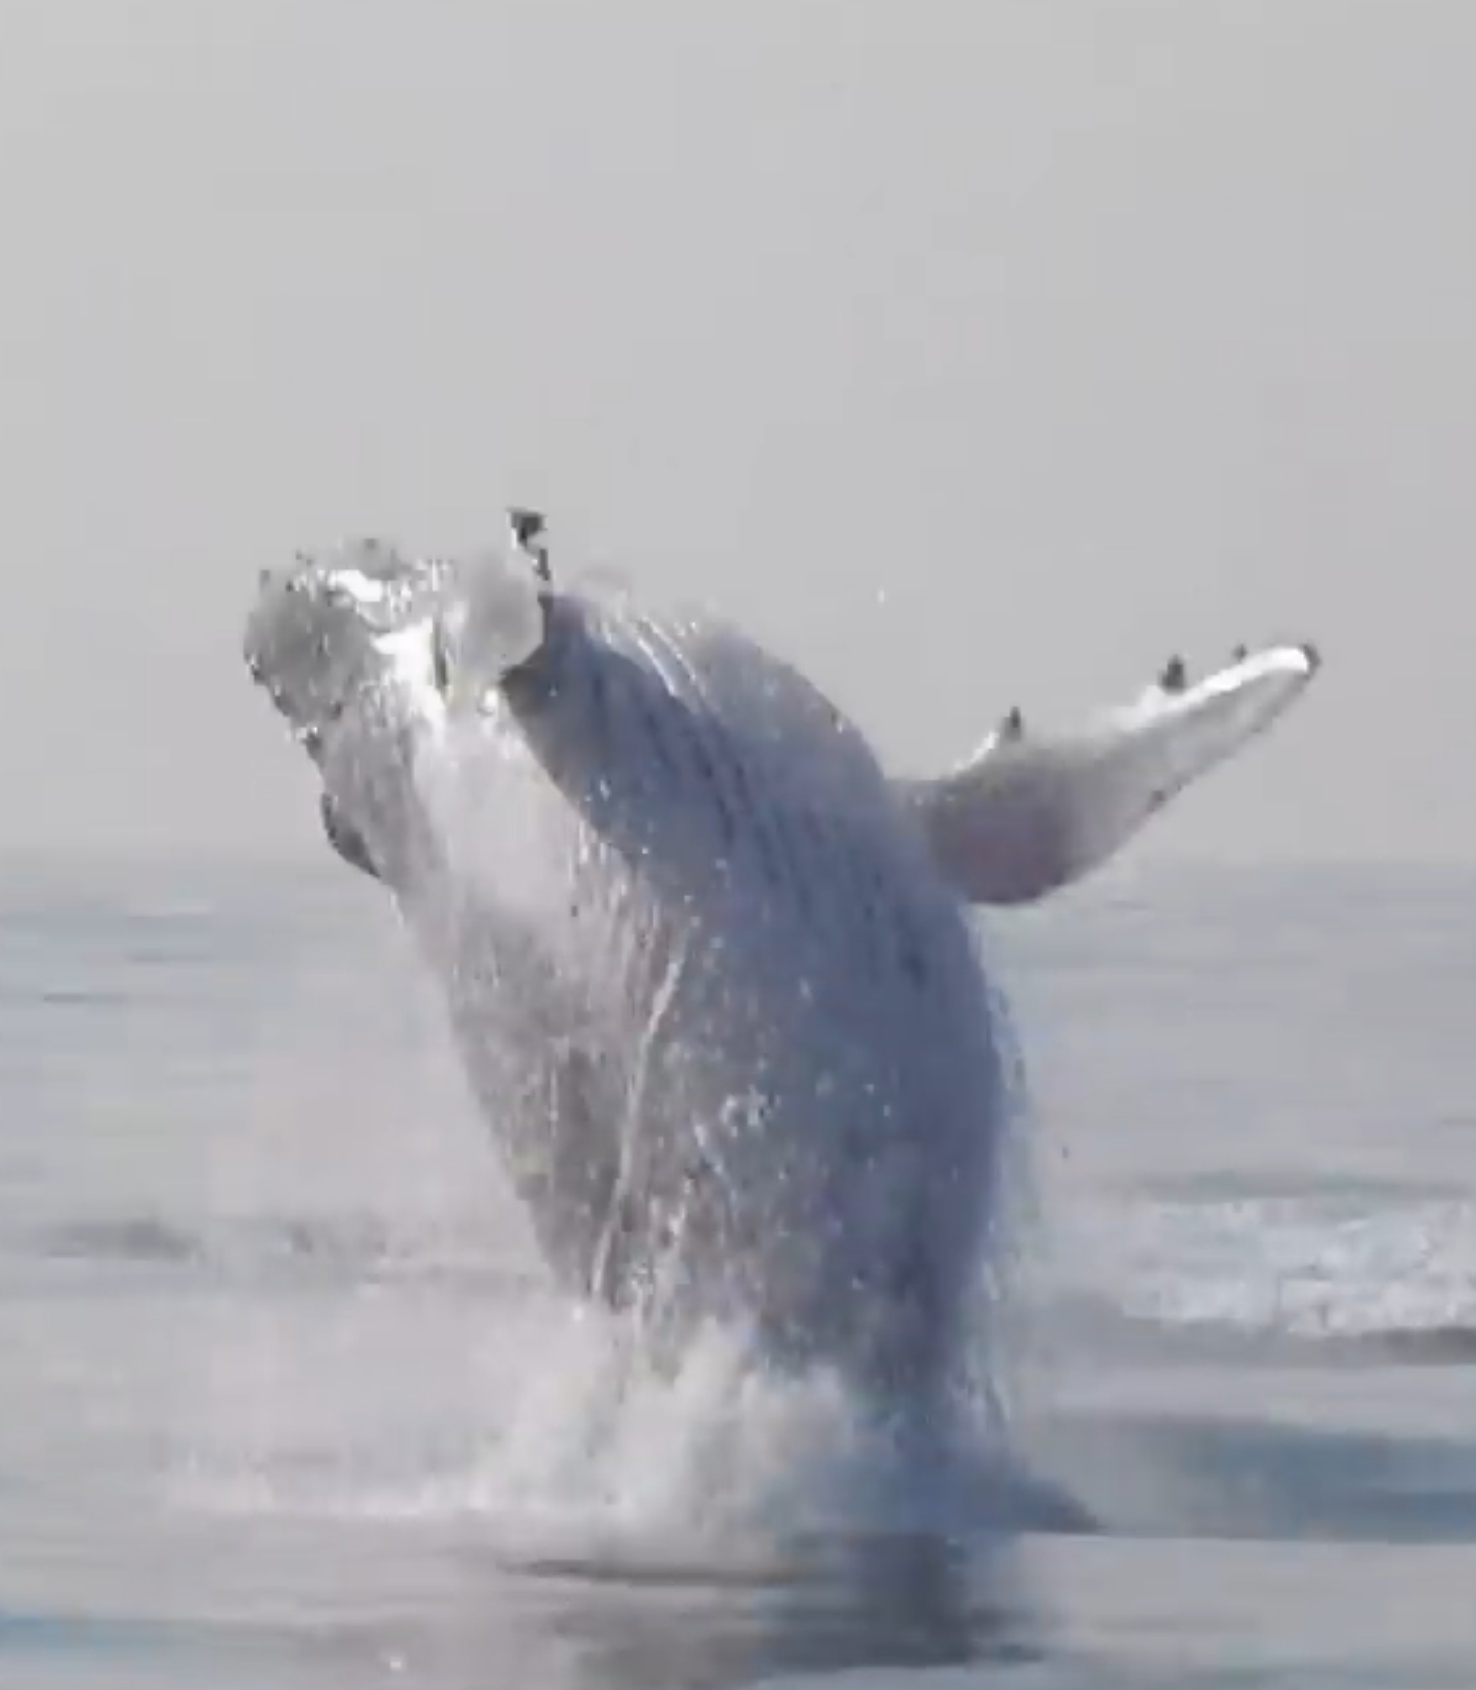humpback: (233, 536, 1007, 1503)
